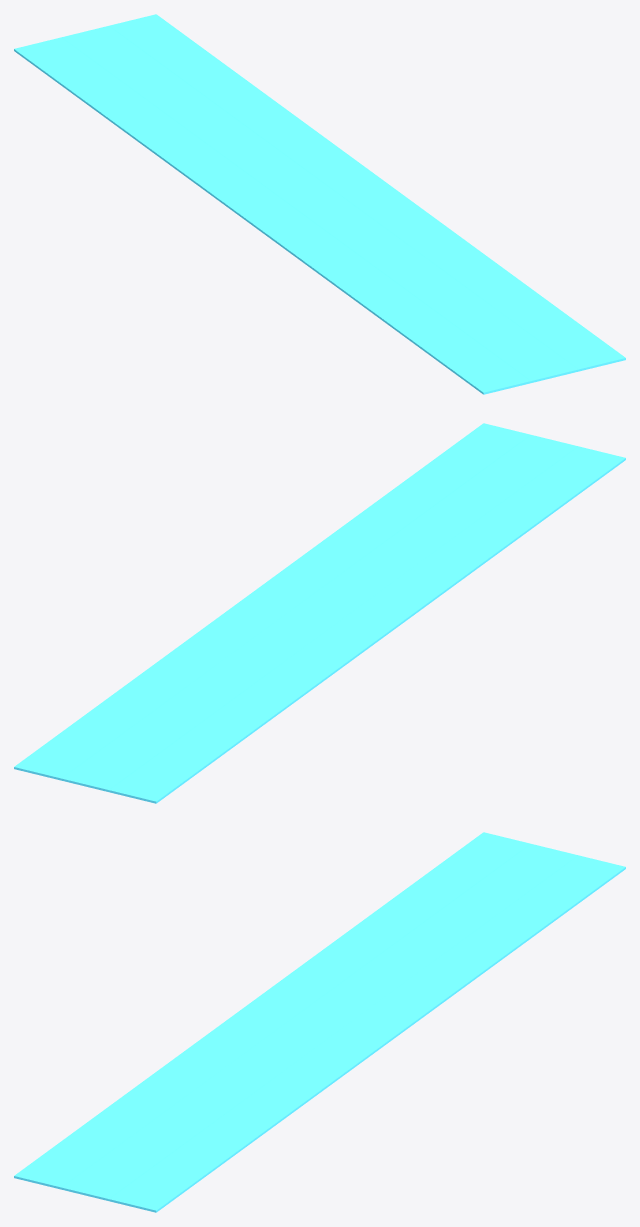
The model's file is blue-glass-v1.glb.
3 views of the same model, one above another, from view 1: azimuth 30°, elevation 25°; view 2: azimuth 150°, elevation 25°; view 3: azimuth 330°, elevation 25° (orthographic).
Visible parts, largest first — view 1: track/blue-glass-v1; view 2: track/blue-glass-v1; view 3: track/blue-glass-v1.
Boxes of the visible parts, bbox=[...] form: track/blue-glass-v1: bbox=[14, 14, 625, 394]; track/blue-glass-v1: bbox=[14, 423, 625, 803]; track/blue-glass-v1: bbox=[14, 832, 625, 1212].
Bounding box in the file's own units: 4.2 × 0.06 × 24.
